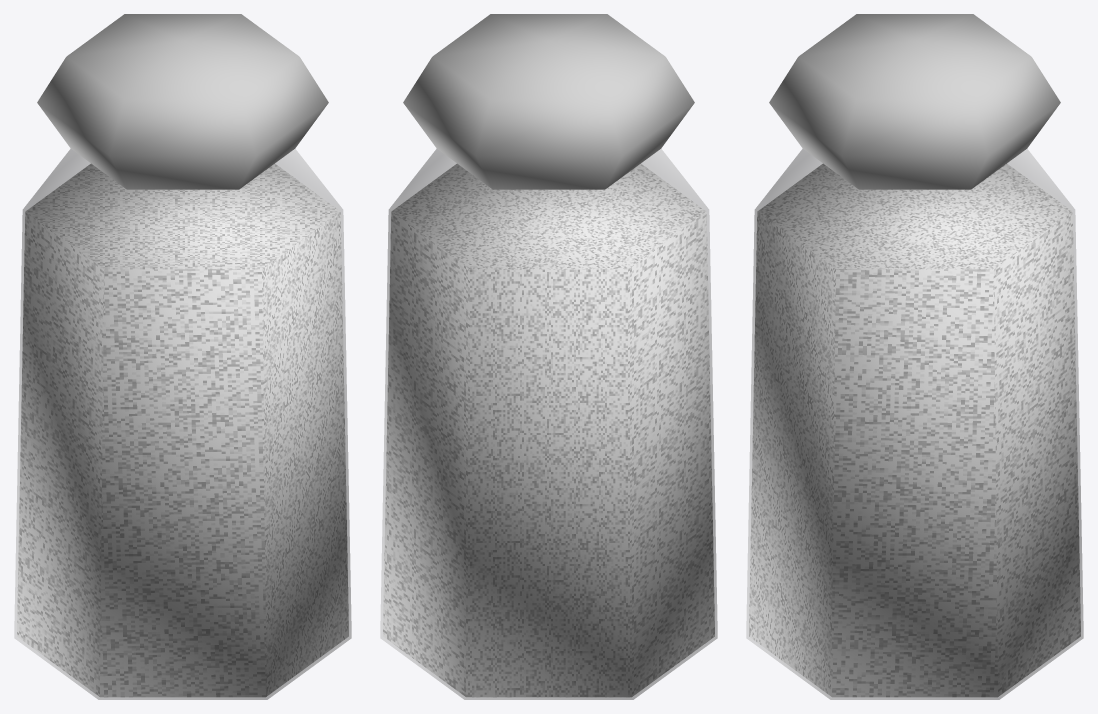
File: Salt.fbx
3 views of the same model, side by side, from view 1: azimuth 30°, elevation 25°; view 2: azimuth 150°, elevation 25°; view 3: azimuth 270°, elevation 25° (orthographic).
Visible parts, largest first — view 1: Salt, SaltInside, SaltCap; view 2: Salt, SaltInside, SaltCap; view 3: Salt, SaltInside, SaltCap.
Part boxes in pixels (x1,y1,x2,y2): Salt: (14, 149, 351, 699); SaltInside: (17, 163, 348, 697); SaltCap: (37, 14, 328, 189); Salt: (380, 149, 717, 699); SaltInside: (383, 163, 714, 697); SaltCap: (403, 14, 694, 189); Salt: (746, 149, 1083, 699); SaltInside: (749, 163, 1080, 697); SaltCap: (769, 14, 1060, 189).
Bounding box in the file's own units: 8.66 × 19.5 × 10.
